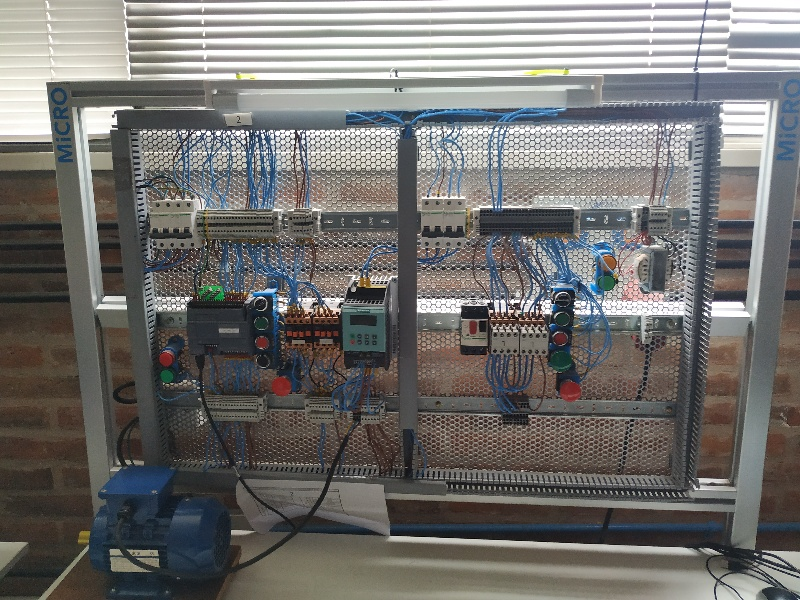Tablero 2: (123, 118, 705, 496)
